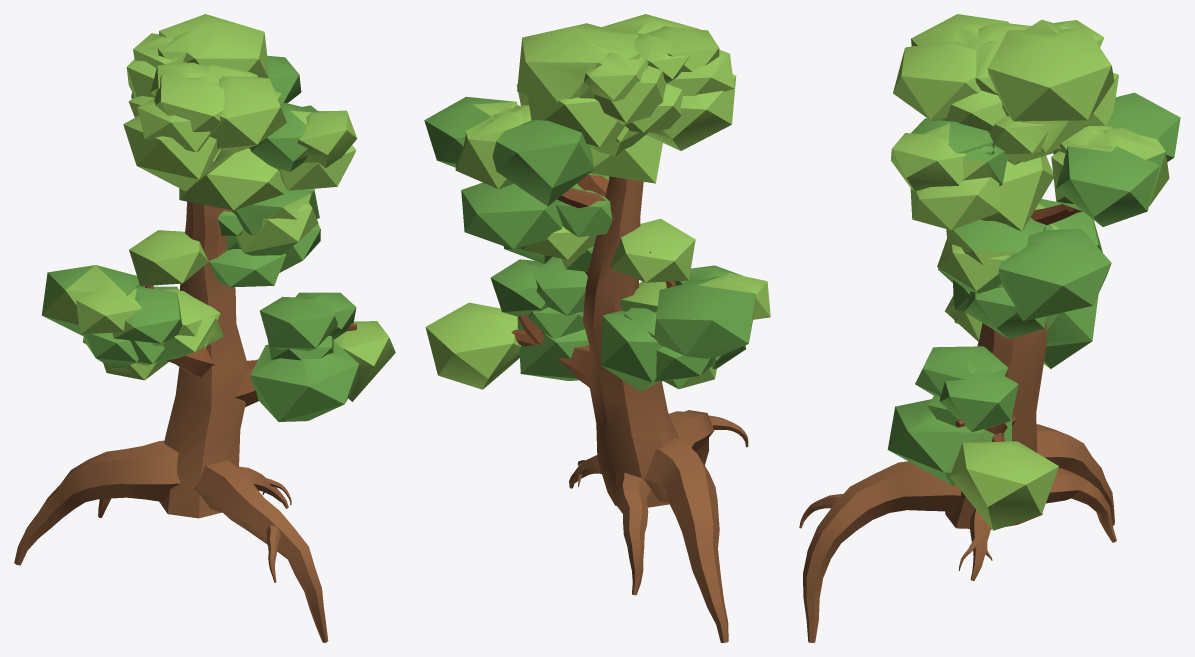
The picture shows the model from 3 angles, left to right: view 1: azimuth 30°, elevation 25°; view 2: azimuth 150°, elevation 25°; view 3: azimuth 270°, elevation 25°; orthographic projection. The views are drawn at different scales.
Visible parts, largest first — view 1: 11; view 2: 11; view 3: 11.
Boxes of the visible parts, <box> form: 11: <box>14,14,395,642</box>; 11: <box>424,14,770,642</box>; 11: <box>799,14,1180,642</box>.
Bounding box in the file's own units: 691 × 1096 × 628.
